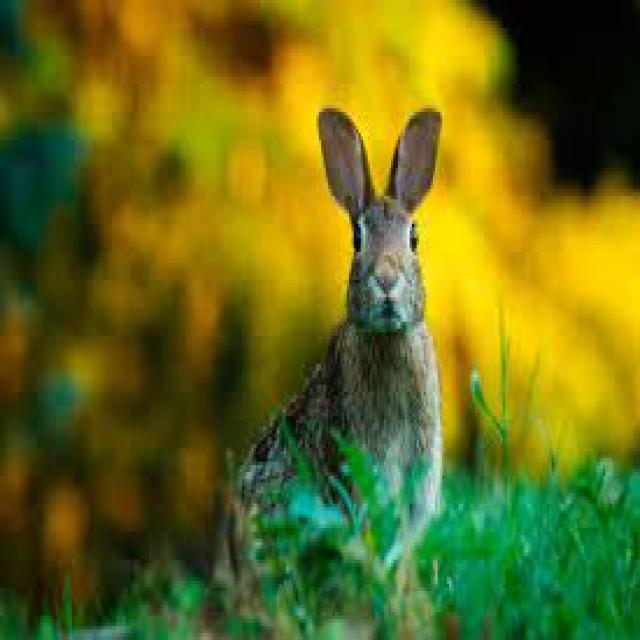Herbivorous: (244, 108, 442, 591)
